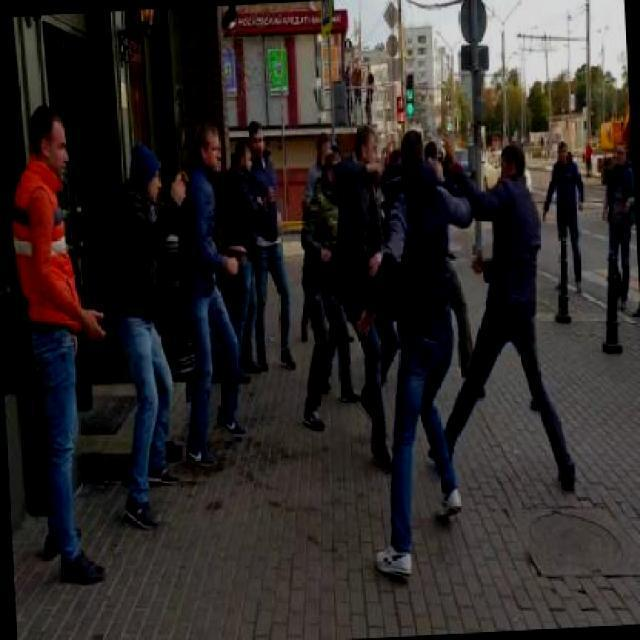fight: (324, 120, 484, 468)
non-fight: (5, 101, 104, 584), (109, 142, 180, 524), (172, 122, 246, 461), (538, 134, 588, 300), (594, 134, 638, 317)
